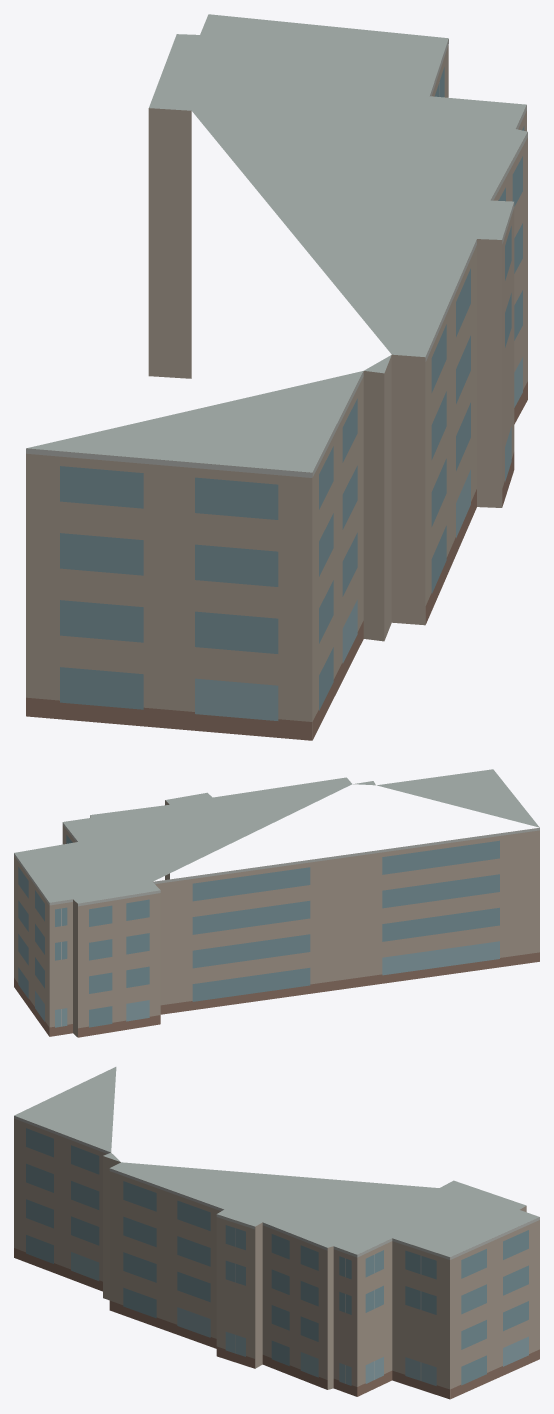
Rendered from survey-upis-32741489.glb.
3 views of the same model, one above another, from view 1: azimuth 30°, elevation 25°; view 2: azimuth 150°, elevation 25°; view 3: azimuth 270°, elevation 25° (orthographic). The views are drawn at different scales.
Visible parts, largest first — view 1: survey-upis-32741489.tmp; view 2: survey-upis-32741489.tmp; view 3: survey-upis-32741489.tmp.
Part boxes in pixels (x1,y1,x2,y2): survey-upis-32741489.tmp: (26,14,527,740); survey-upis-32741489.tmp: (14,769,539,1037); survey-upis-32741489.tmp: (14,1067,539,1399).
Size of the model in its own units: 34.83 by 12.1 by 40.57.
